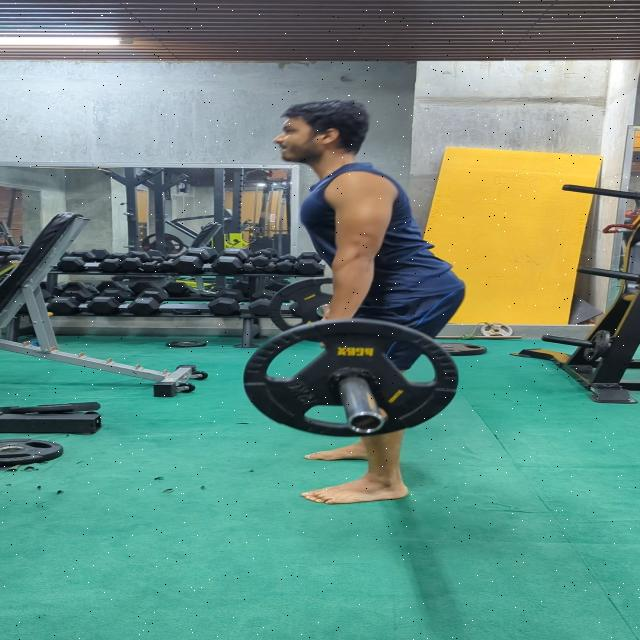Normal_Deadlifts: (270, 97, 468, 506)
